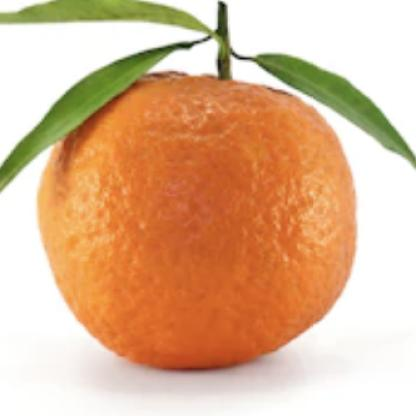fresh: (36, 61, 356, 370)
